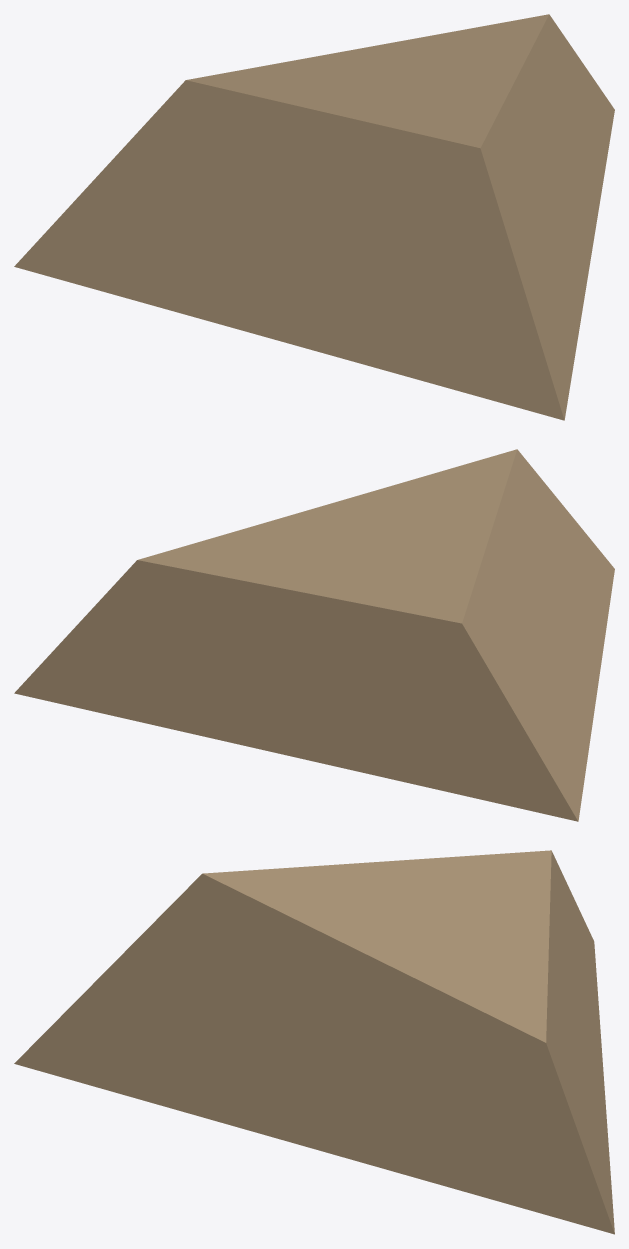
The model's file is TB_D_Env_StoneD_B.FBX.
3 views of the same model, one above another, from view 1: azimuth 30°, elevation 25°; view 2: azimuth 150°, elevation 25°; view 3: azimuth 270°, elevation 25° (orthographic). The views are drawn at different scales.
Parts seen in each view (by area): view 1: TB_D_Env_StoneD_B; view 2: TB_D_Env_StoneD_B; view 3: TB_D_Env_StoneD_B.
Boxes of the visible parts, bbox=[...] form: TB_D_Env_StoneD_B: bbox=[14, 14, 614, 420]; TB_D_Env_StoneD_B: bbox=[14, 449, 614, 821]; TB_D_Env_StoneD_B: bbox=[14, 850, 614, 1234].
Size of the model in its own units: 0.3267 by 0.1018 by 0.2831.
